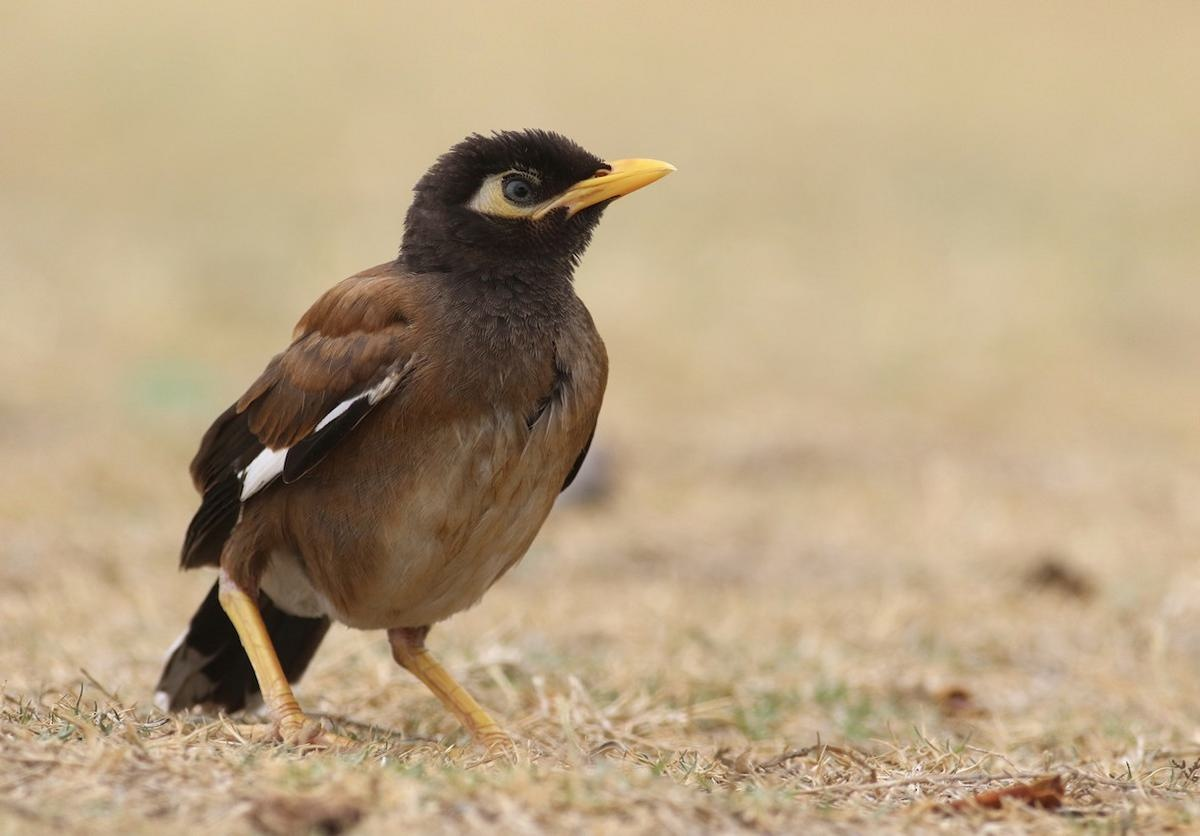myna: (121, 95, 717, 768)
